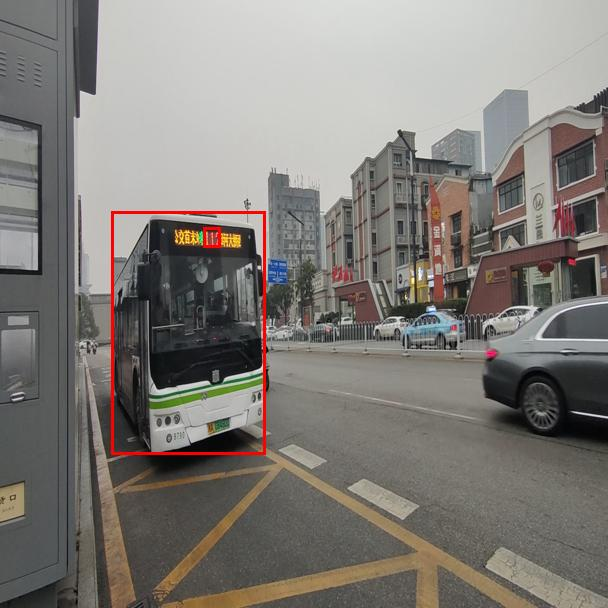bus: (111, 211, 265, 454)
screen: (203, 227, 220, 247)
